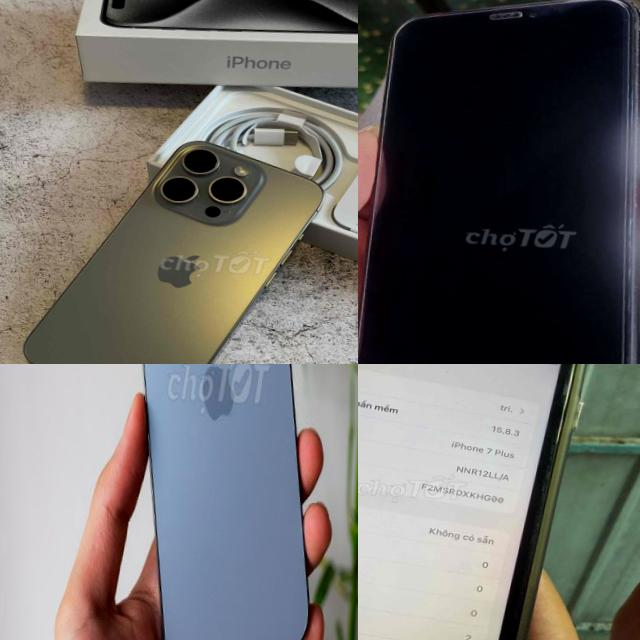gen_12_13: (102, 364, 335, 640)
gen_15: (15, 126, 329, 364)
gen_7_8: (358, 364, 596, 640)
gen_x_xs: (358, 0, 640, 364)
scratch: (532, 0, 572, 22), (618, 0, 640, 22)
